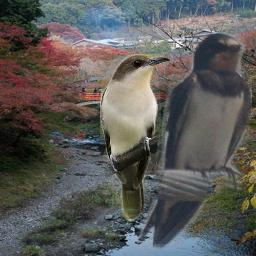Cuckoo: (100, 54, 171, 222)
Swallow: (137, 32, 252, 249)
